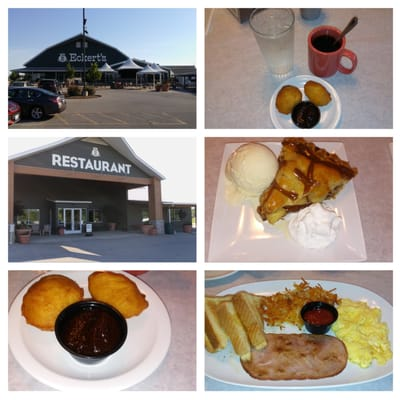pizza: (249, 9, 296, 76), (306, 23, 359, 79)
soup: (258, 138, 359, 224)
sushi: (54, 300, 128, 362)
taco: (88, 271, 149, 319)
